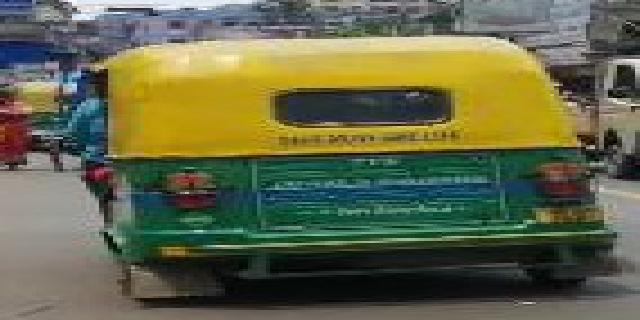Autorickshaw: (54, 33, 618, 303)
